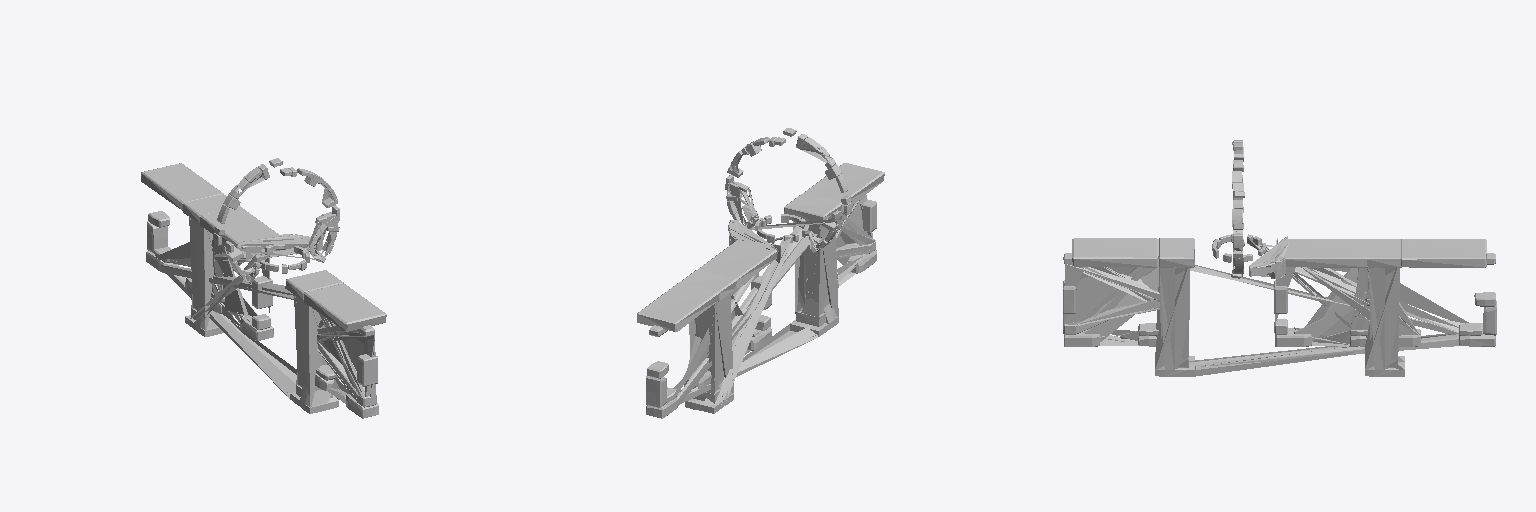
Rendered from cellDesert_LastBridge_Proxy-sharedassets3.assets-565.obj.
The picture shows the model from 3 angles: view 1: azimuth 30°, elevation 25°; view 2: azimuth 150°, elevation 25°; view 3: azimuth 270°, elevation 25°; orthographic projection.
Parts seen in each view (by area): view 1: cellDesert_LastBridge_Proxy_1, cellDesert_LastBridge_Proxy_3, cellDesert_LastBridge_Proxy_2; view 2: cellDesert_LastBridge_Proxy_1, cellDesert_LastBridge_Proxy_3, cellDesert_LastBridge_Proxy_2; view 3: cellDesert_LastBridge_Proxy_1, cellDesert_LastBridge_Proxy_3.
Part boxes in pixels (left/top/right/bottom): cellDesert_LastBridge_Proxy_1: left=148, top=167, right=375, bottom=413; cellDesert_LastBridge_Proxy_3: left=141, top=158, right=386, bottom=418; cellDesert_LastBridge_Proxy_2: left=225, top=212, right=338, bottom=283; cellDesert_LastBridge_Proxy_1: left=647, top=137, right=875, bottom=412; cellDesert_LastBridge_Proxy_3: left=637, top=128, right=884, bottom=418; cellDesert_LastBridge_Proxy_2: left=727, top=181, right=839, bottom=248; cellDesert_LastBridge_Proxy_1: left=1063, top=141, right=1495, bottom=376; cellDesert_LastBridge_Proxy_3: left=1063, top=140, right=1496, bottom=376.
Bounding box in the file's own units: 26.85 × 46.57 × 82.63.